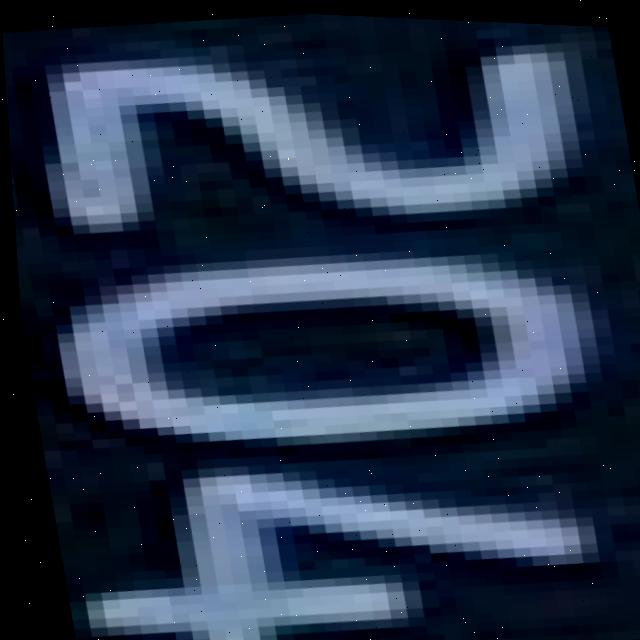character: (0, 0, 618, 282), (19, 206, 629, 489), (42, 409, 640, 640)
